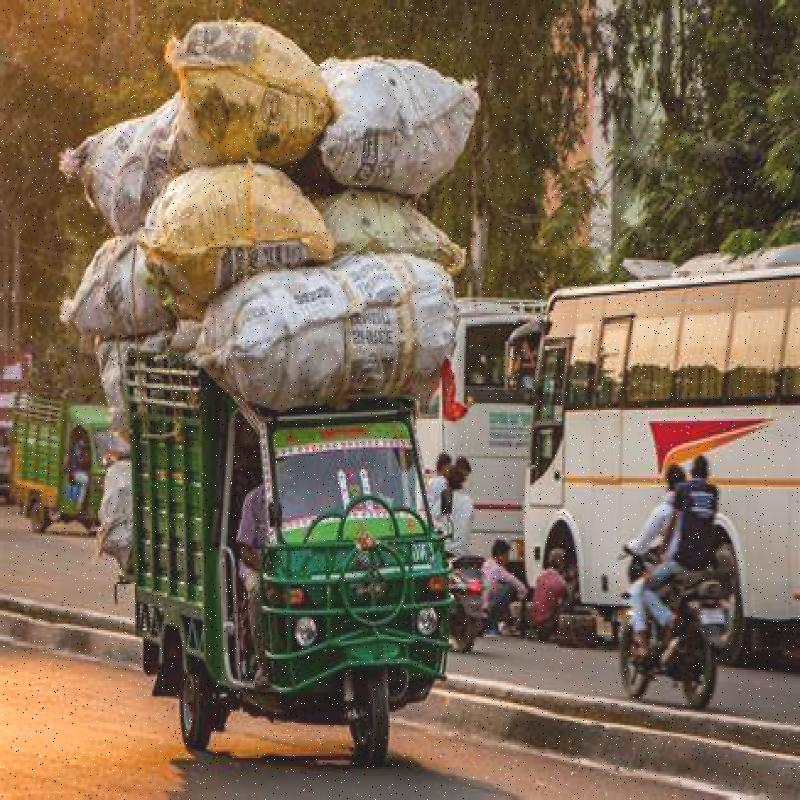auto: (63, 407, 453, 712)
bike: (628, 571, 740, 678)
